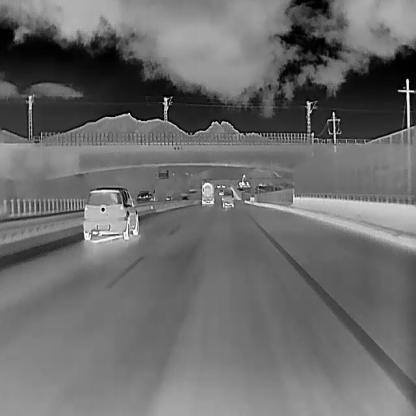car: (82, 186, 138, 240), (200, 181, 215, 206), (136, 189, 156, 207), (221, 189, 233, 207), (217, 188, 224, 196), (164, 195, 173, 201), (181, 195, 188, 201), (215, 182, 221, 187), (221, 182, 225, 187)
